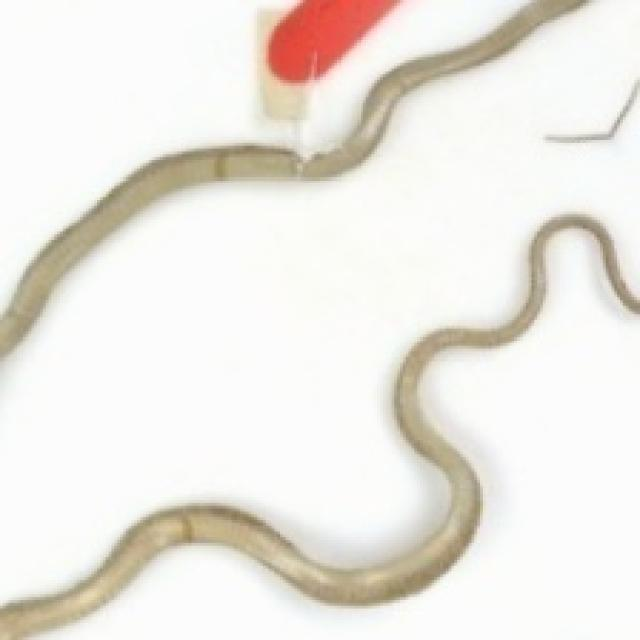mullers wolf snake: (0, 0, 637, 600), (34, 231, 637, 637), (0, 0, 523, 306)
